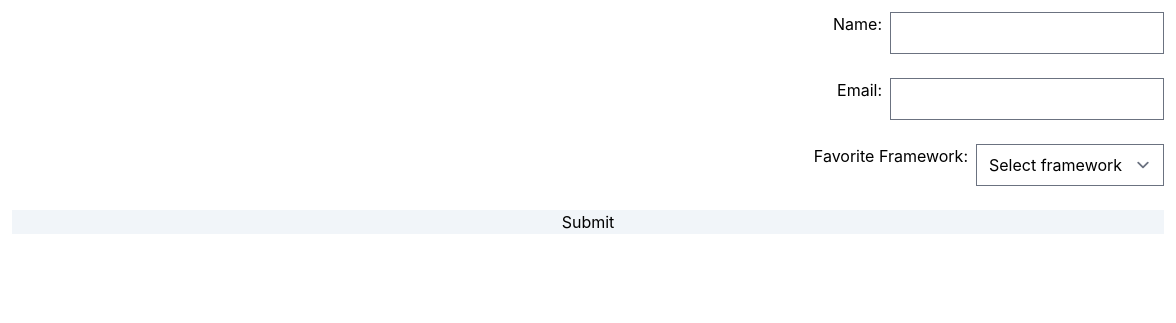
it: FavoriteForm › should display the response sentence when you click submit
The image size is (1176, 323).
What coordinates should you click on to do the following:
click the button "Submit"
I would click on:
 (588, 222)
Its box is [12,210,1164,234].
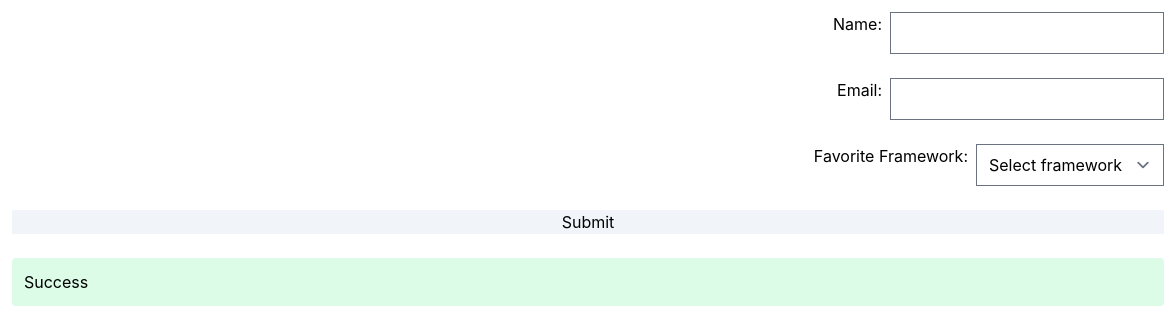
Check: the text "Success" is shown, box [12,258,1164,306]
